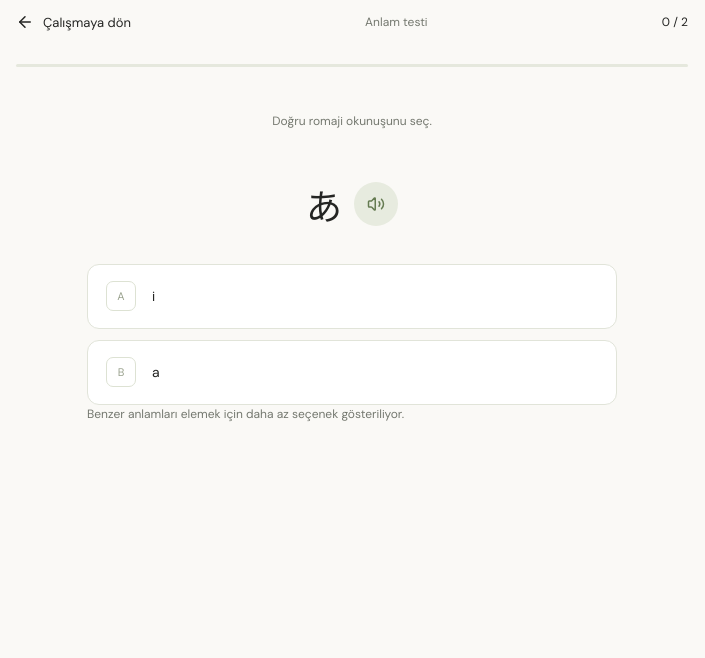
Test: Japanese study interface › reveals the alphabet reading after answering a quiz
Click the button "B a" at (121,372), box [87,340,617,405]
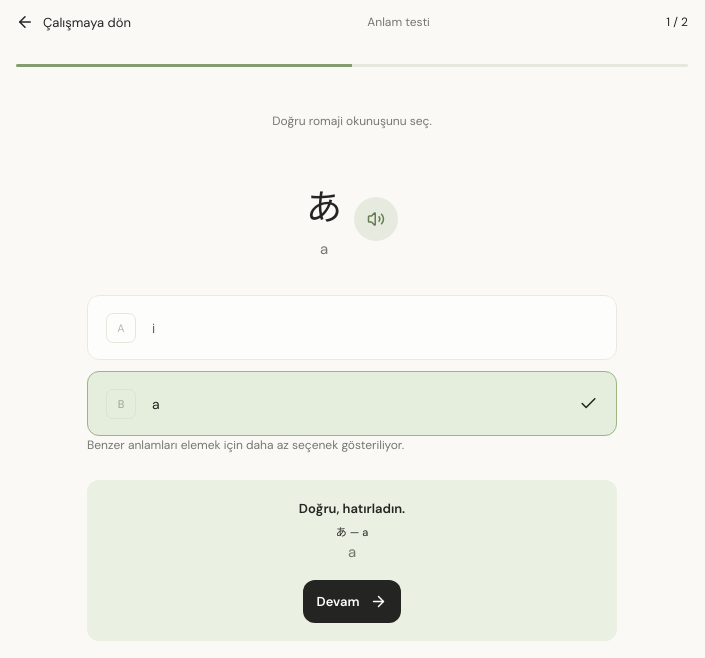
Check: the message "Doğru, hatırladın. あ — a a Devam" is shown, box [87,480,617,641]
